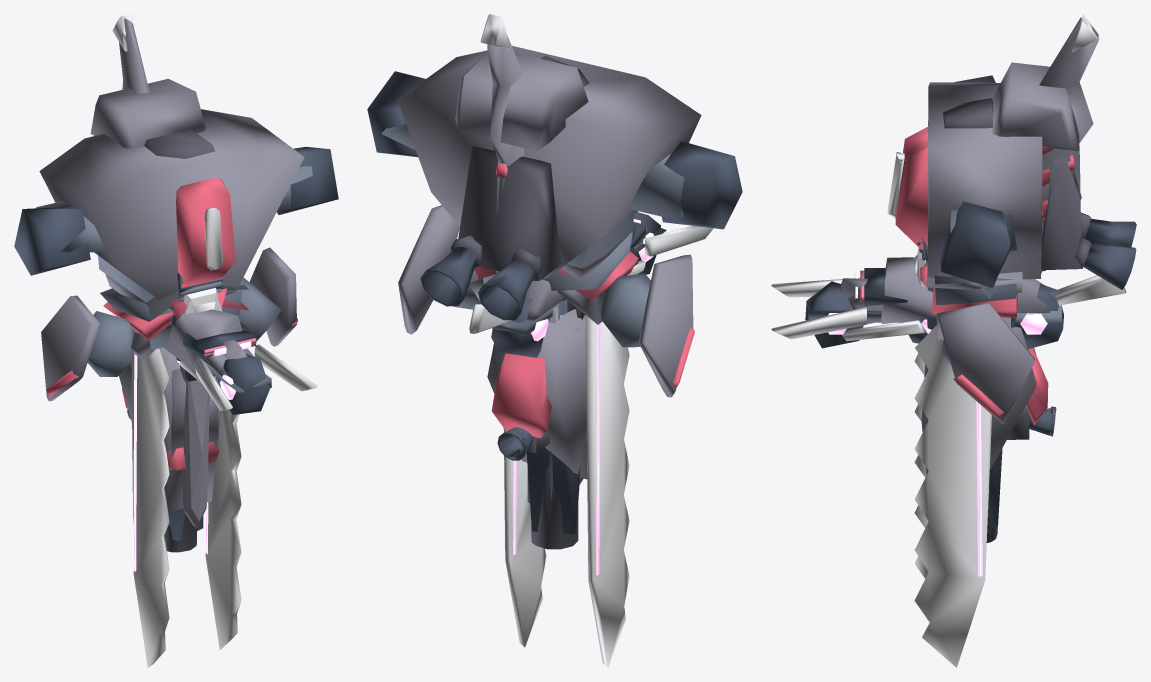
The model's file is razor-lod2.glb.
The picture shows the model from 3 angles, left to right: view 1: azimuth 30°, elevation 25°; view 2: azimuth 150°, elevation 25°; view 3: azimuth 270°, elevation 25°; orthographic projection. The views are drawn at different scales.
Parts seen in each view (by area): view 1: chest/chest/P, elR/armR/T, hips/hips/P, chest/chest/D, elL/armL/T, kneeL/shins/P, hips/hips/K, chest/chest/S, head/head/P, chest/chest/K, ankleL/feet/D, ankleL/feet/T (+13 smaller); view 2: chest/chest/P, elR/armR/T, chest/backpack/F, hips/hips/P, chest/chest/D, kneeL/shins/P, elL/armL/T, hips/hips/K, chest/backpack/D, kneeL/shins/S, chest/chest/K, hipL/thighs/D (+12 smaller); view 3: chest/chest/P, elL/armL/T, hips/hips/P, chest/chest/D, chest/backpack/F, ankleL/feet/T, chest/chest/S, wingL/backpack/P, head/head/P, chest/backpack/D, ankleL/feet/D, hips/hips/K (+18 smaller).
Boxes of the visible parts, box(x1,y1,x2,y2) form: chest/chest/P: box(39, 78, 304, 310); elR/armR/T: box(131, 348, 169, 667); hips/hips/P: box(41, 247, 296, 401); chest/chest/D: box(14, 146, 338, 300); elL/armL/T: box(205, 409, 241, 649); kneeL/shins/P: box(119, 347, 220, 528); hips/hips/K: box(87, 277, 281, 376); chest/chest/S: box(176, 177, 235, 287); head/head/P: box(163, 309, 246, 376); chest/chest/K: box(36, 166, 312, 302); ankleL/feet/D: box(185, 354, 269, 414); ankleL/feet/T: box(195, 344, 317, 410); chest/chest/P: box(397, 46, 701, 278); elR/armR/T: box(585, 315, 629, 667); chest/backpack/F: box(450, 146, 561, 281); hips/hips/P: box(398, 205, 693, 397); chest/chest/D: box(367, 71, 742, 229); kneeL/shins/P: box(487, 309, 587, 484); elL/armL/T: box(503, 428, 546, 647); hips/hips/K: box(454, 232, 650, 347); chest/backpack/D: box(420, 247, 534, 320); kneeL/shins/S: box(492, 353, 551, 438); chest/chest/K: box(381, 124, 684, 268); hipL/thighs/D: box(526, 299, 580, 533); chest/chest/P: box(928, 62, 1079, 279); elL/armL/T: box(914, 325, 991, 667); hips/hips/P: box(937, 302, 1034, 424); chest/chest/D: box(922, 75, 1010, 287); chest/backpack/F: box(1041, 146, 1091, 270); ankleL/feet/T: box(771, 275, 1126, 339); chest/chest/S: box(895, 127, 1075, 253); wingL/backpack/P: box(1039, 17, 1099, 271); head/head/P: box(840, 257, 936, 324); chest/backpack/D: box(1083, 218, 1136, 289); ankleL/feet/D: box(805, 281, 1063, 348); hips/hips/K: box(934, 275, 1017, 364).
Size of the model in its own units: 3.07 by 6.01 by 3.14.
